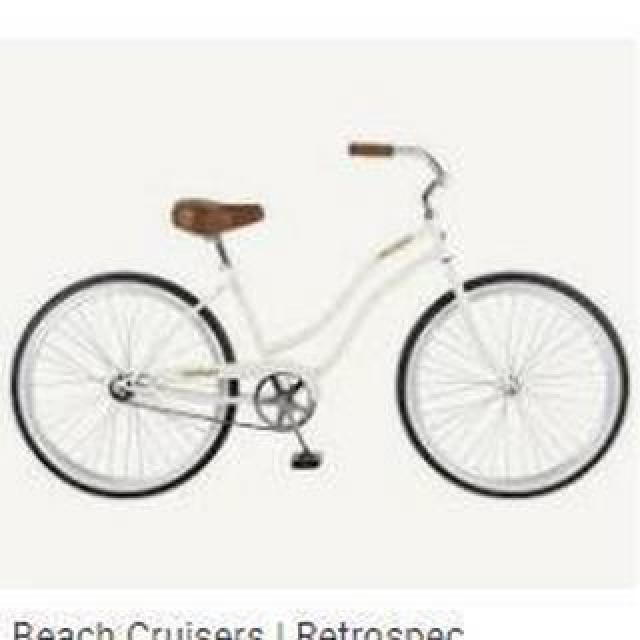Person: (0, 140, 630, 512)
